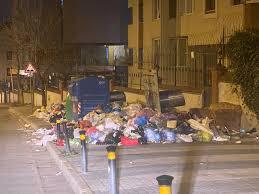Container: (68, 79, 111, 118)
Garbage: (88, 109, 198, 144), (104, 114, 174, 145), (87, 115, 109, 142), (137, 119, 154, 136), (163, 129, 180, 144), (178, 133, 192, 147), (195, 130, 209, 143), (30, 135, 44, 147), (105, 130, 116, 142), (38, 111, 50, 120), (104, 122, 113, 131), (54, 106, 62, 113)
